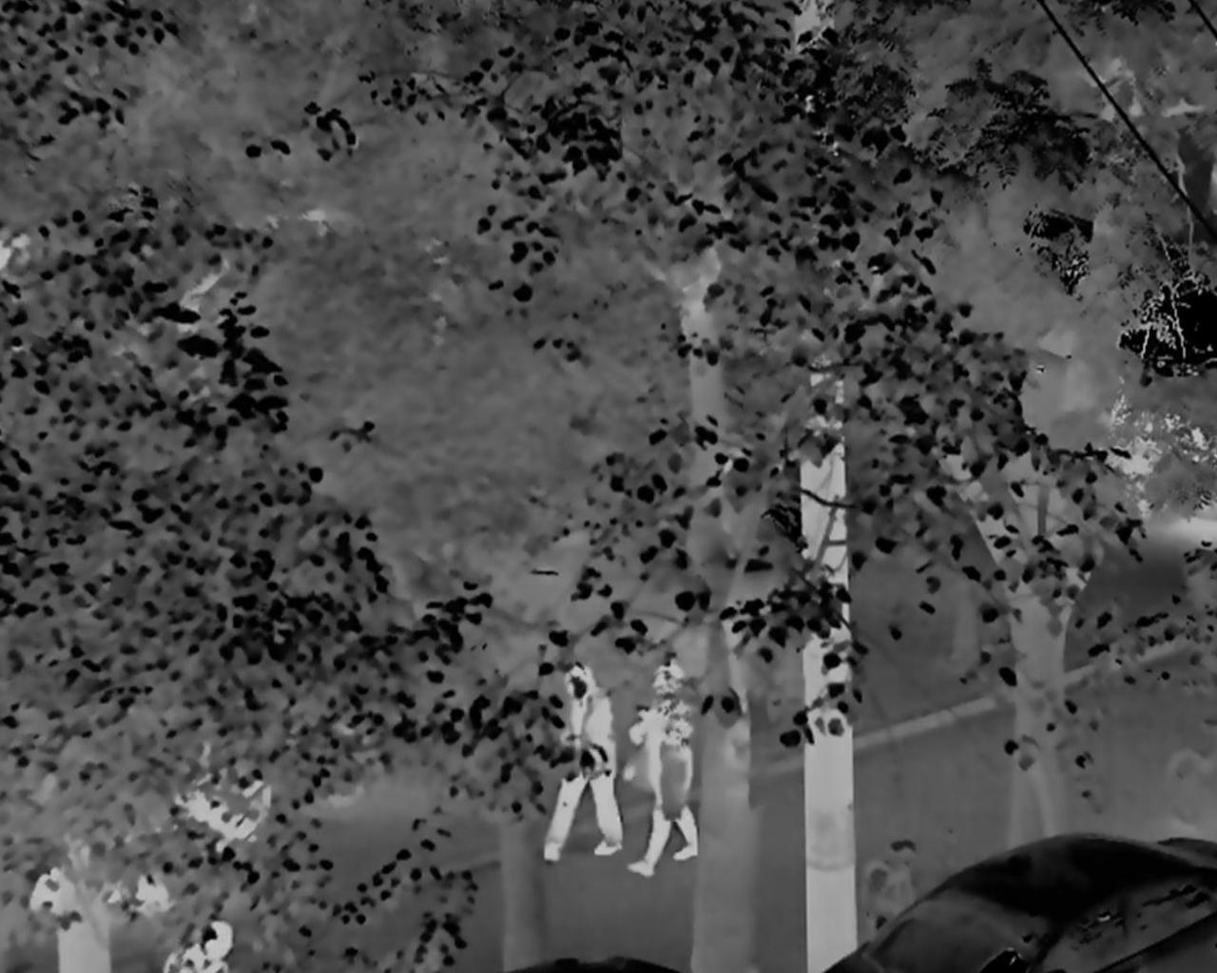person: (543, 661, 621, 870), (628, 657, 695, 882)
